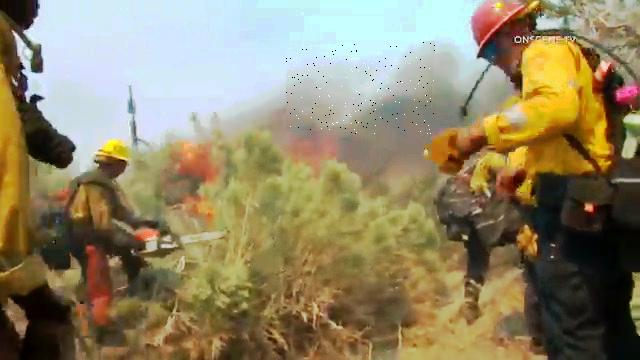smoke: (286, 42, 435, 135)
